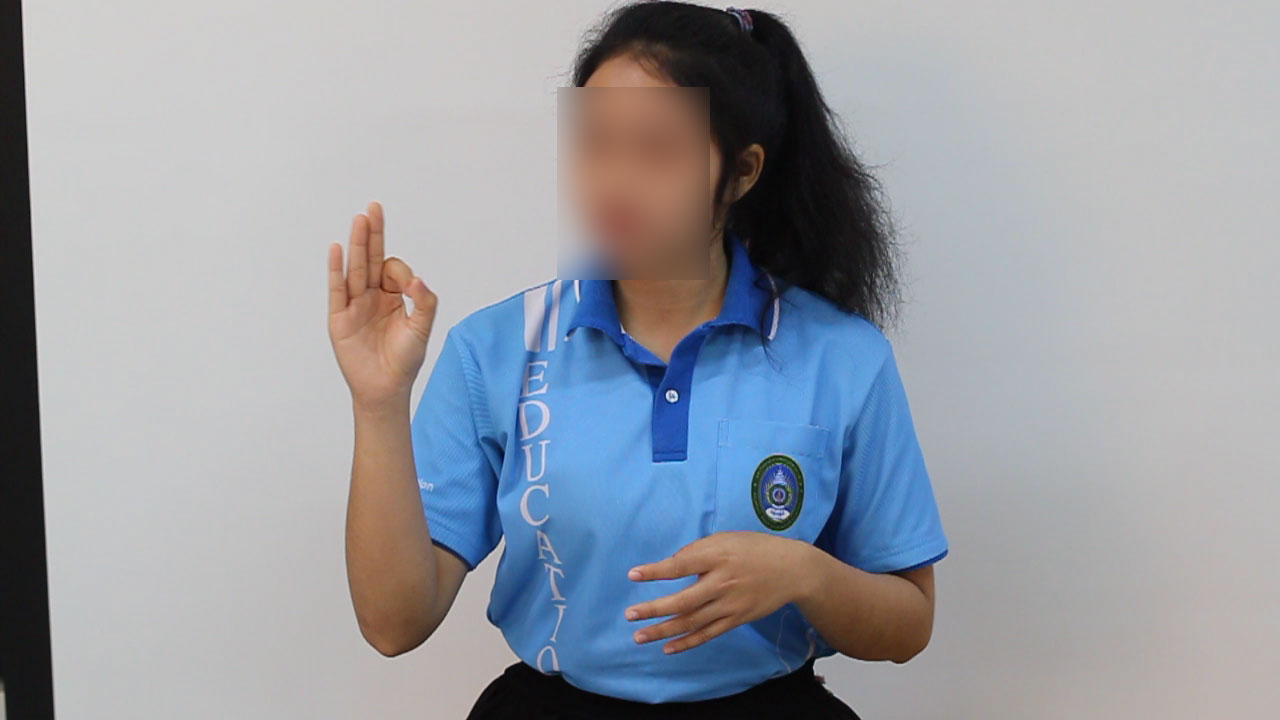for: (319, 185, 444, 427)
